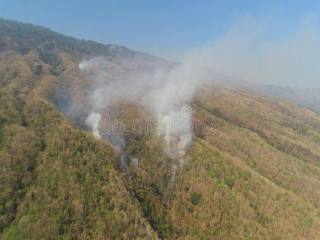smoke: (146, 61, 203, 173), (76, 53, 123, 152)
